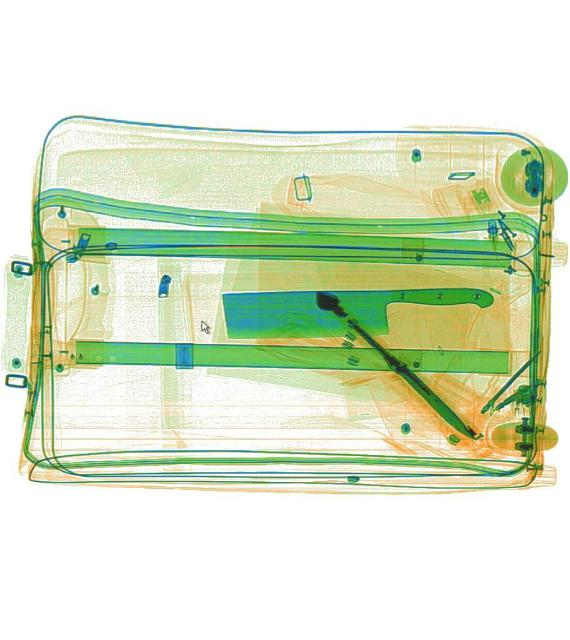Knife: (221, 288, 493, 336)
